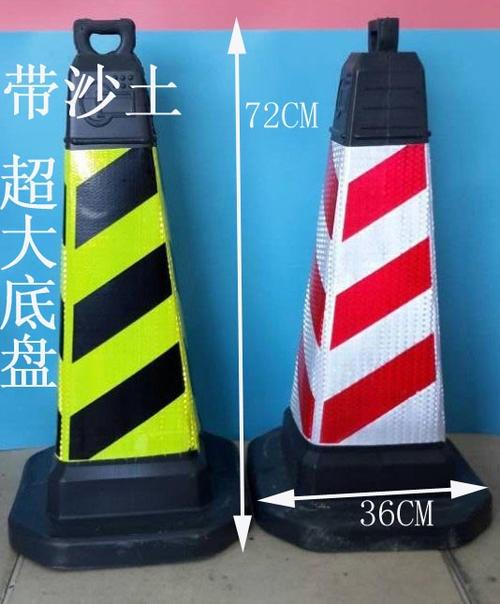cone_barrel: (255, 18, 485, 539), (21, 14, 230, 547)
